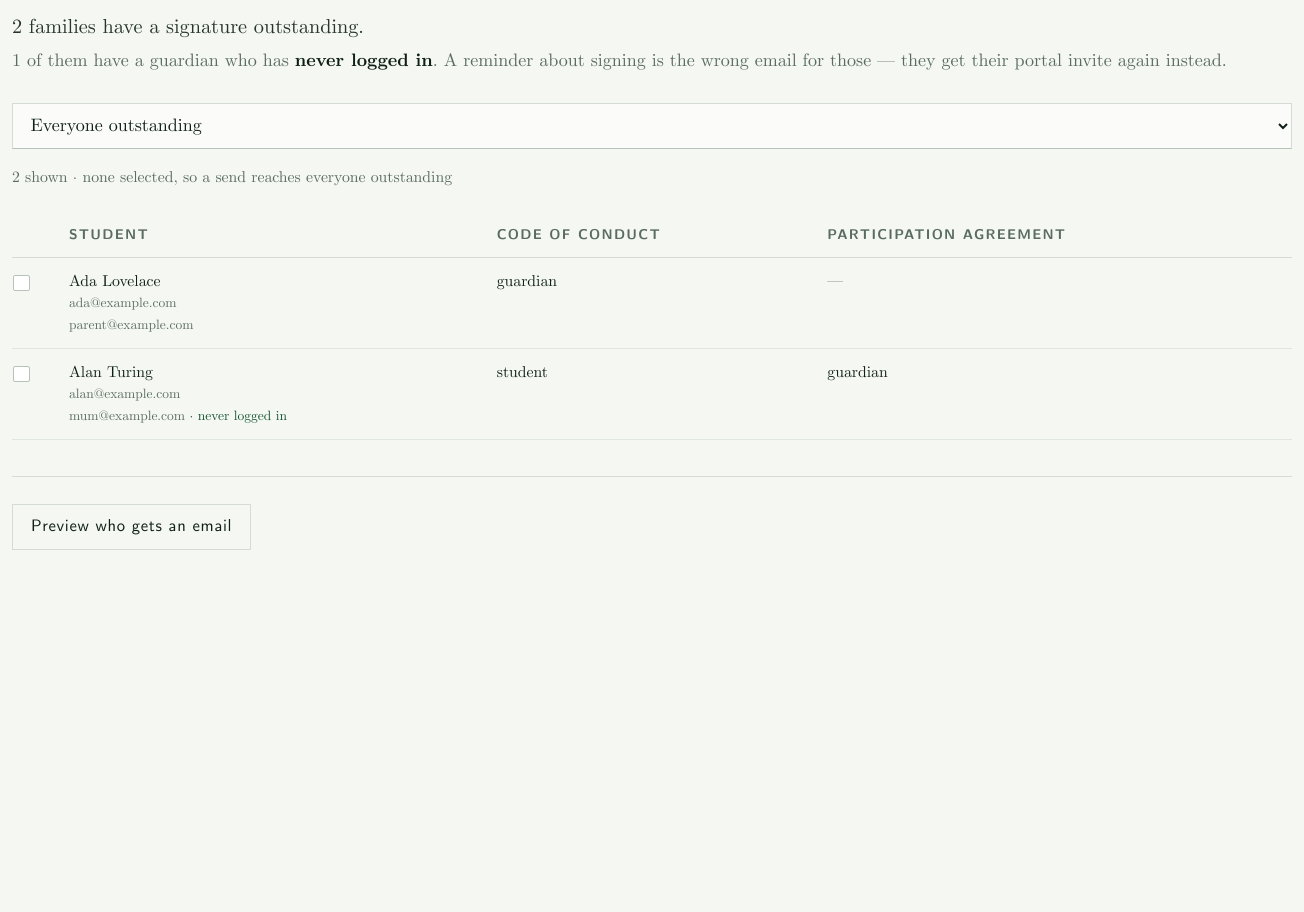
sending reminders › only sends for real after the preview, and reports the result
Expected: the text "Ada Lovelace" is shown, 69,271 -> 161,292
Step 1. Click the button "Preview who gets an email" → [132, 527], box 12,504 -> 251,550
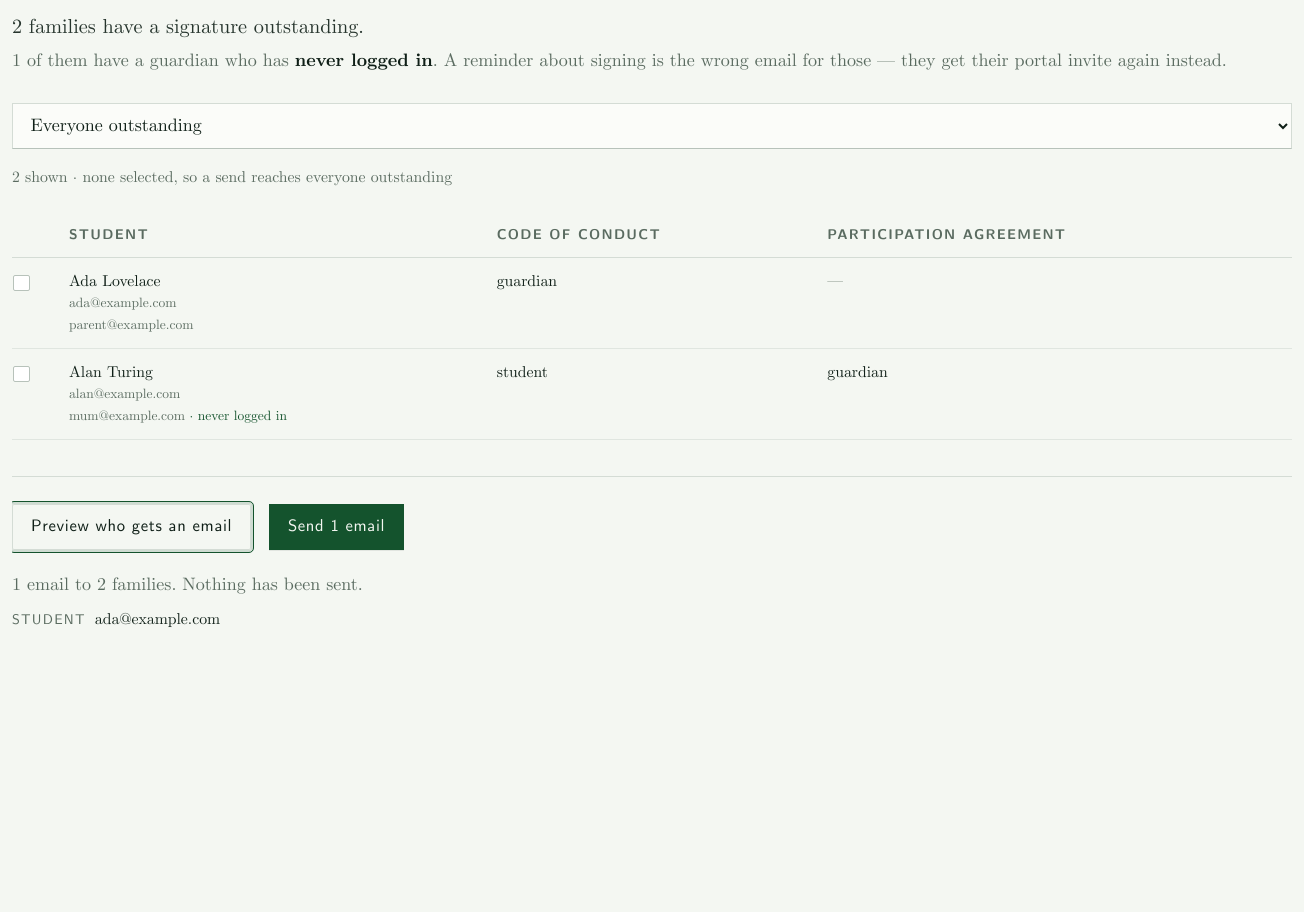
Step 2. Click the button "Send 1 email" → [337, 527], box 269,504 -> 404,550
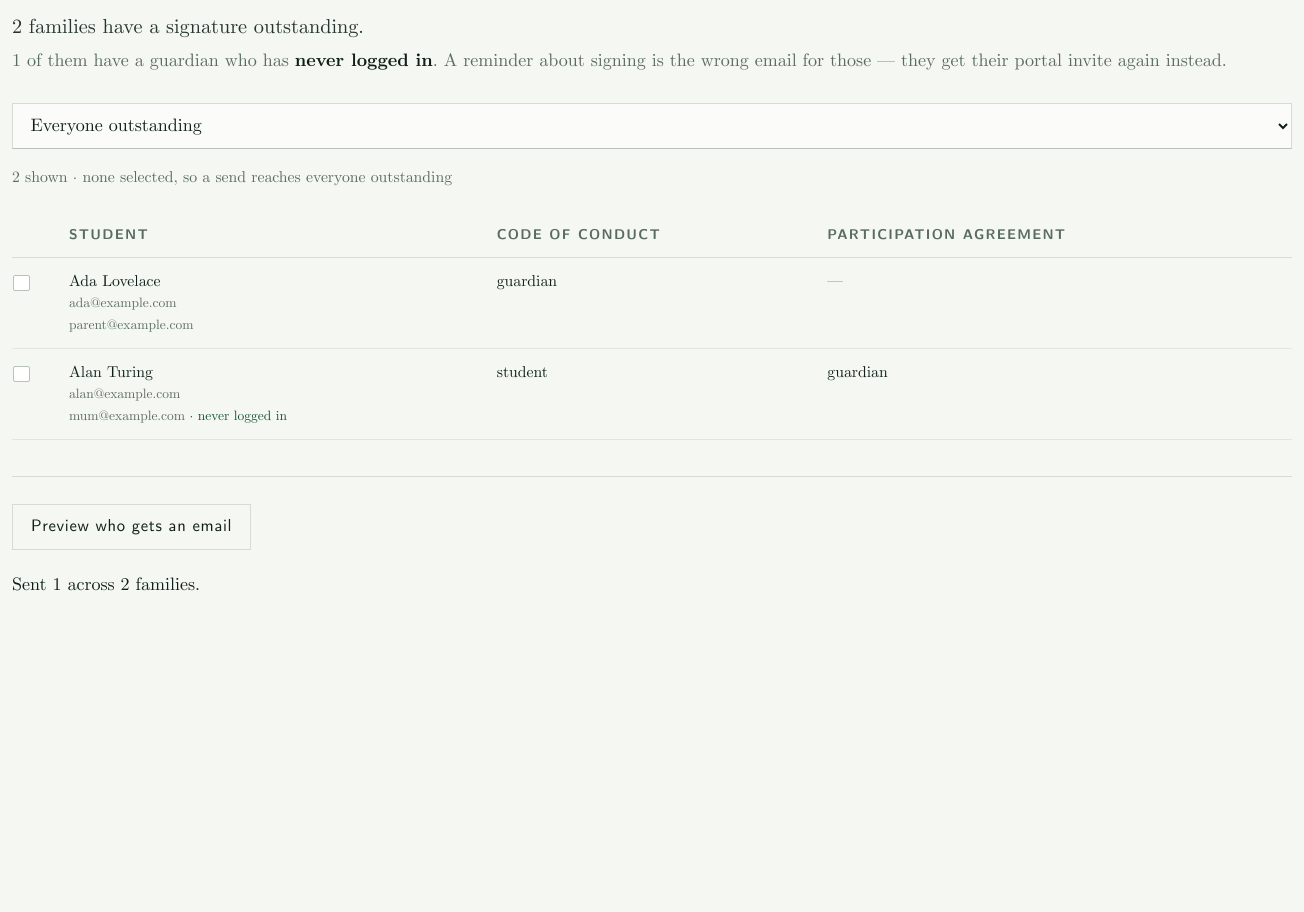
Expected: the text "Sent 1 across 2 families." is shown, 12,573 -> 200,597
